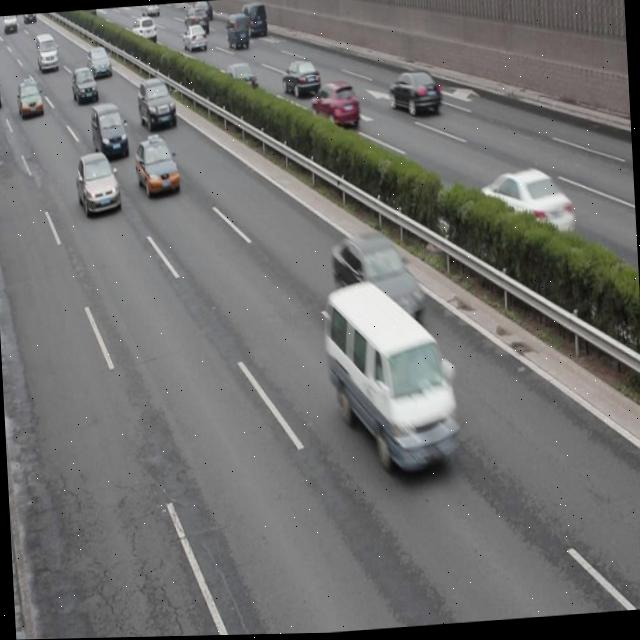car: (332, 234, 424, 330), (477, 168, 574, 243), (75, 151, 122, 217), (134, 136, 182, 200), (310, 80, 359, 132), (388, 72, 440, 119), (91, 101, 129, 158), (137, 78, 177, 131), (280, 60, 320, 99), (17, 76, 45, 119), (224, 63, 258, 97), (72, 66, 98, 104), (86, 47, 114, 80), (226, 13, 250, 51), (132, 17, 157, 45), (184, 8, 209, 34), (182, 26, 206, 51), (193, 1, 213, 22), (140, 5, 160, 18)
truck: (324, 278, 460, 481), (34, 31, 60, 72), (238, 3, 268, 37)
